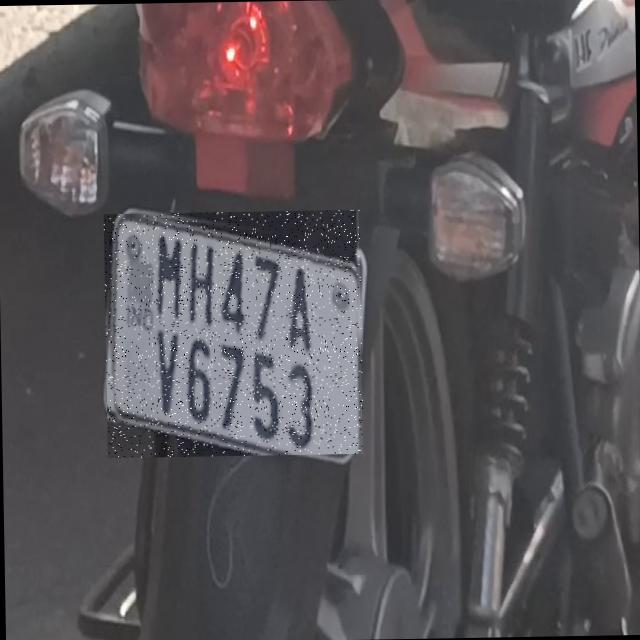Plate: (105, 211, 365, 459)
